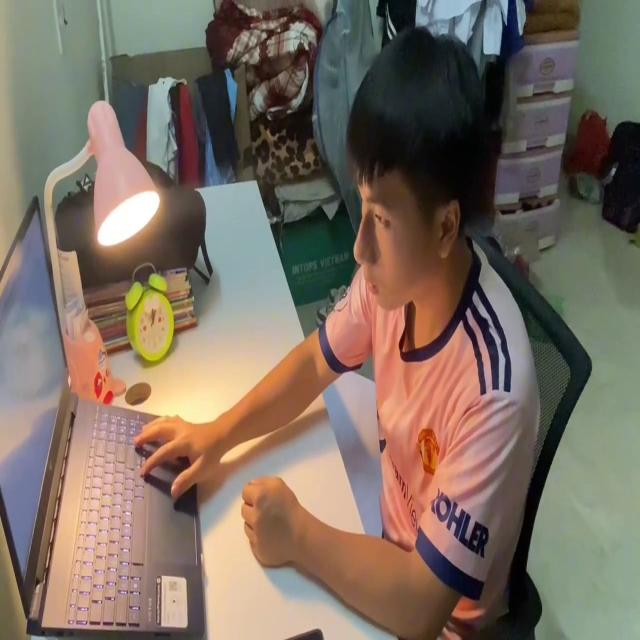laptop: (0, 188, 206, 639)
phone: (271, 621, 324, 640)
student: (134, 19, 543, 640)
